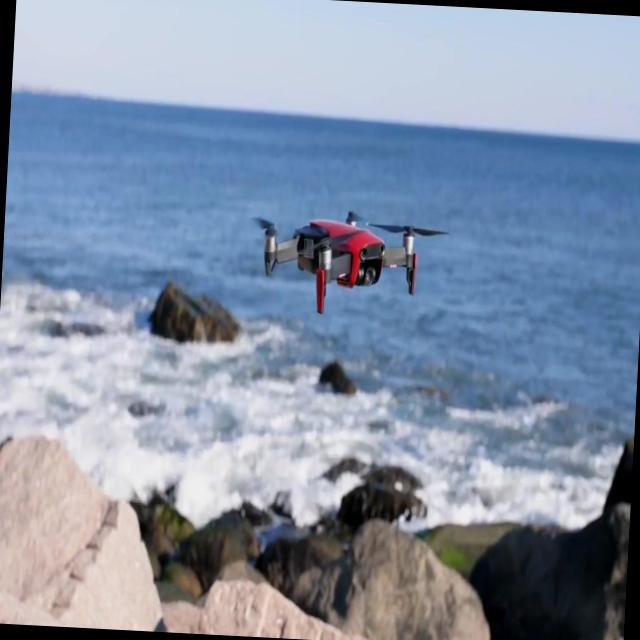drone: (246, 201, 452, 322)
